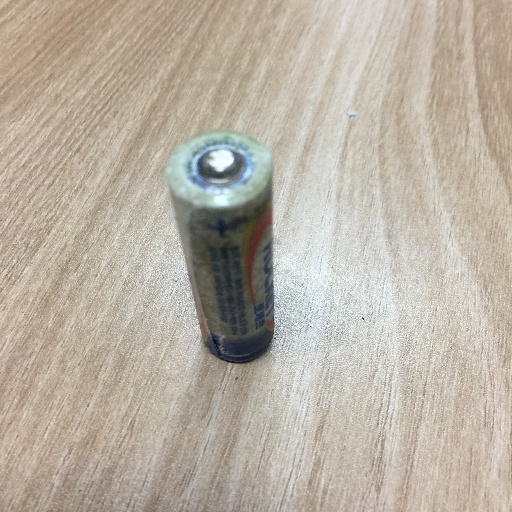Battery_0: (156, 123, 298, 380)
